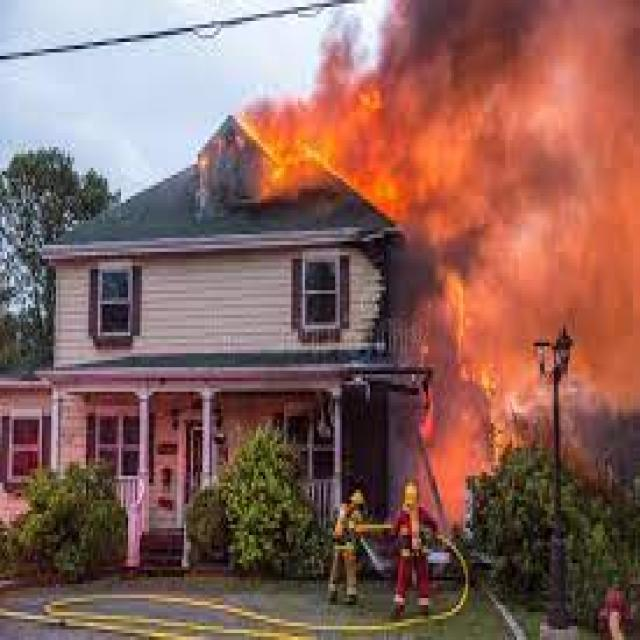Fire: (242, 87, 438, 277)
Smoke: (436, 0, 640, 389)
